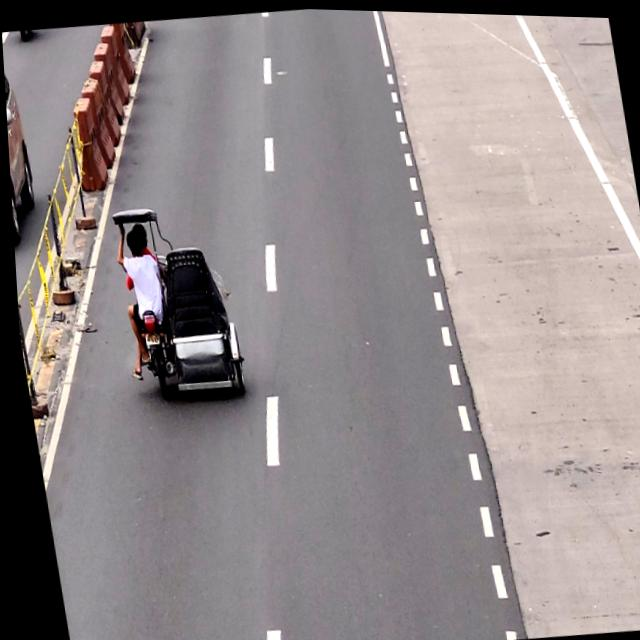Car: (108, 201, 244, 405)
